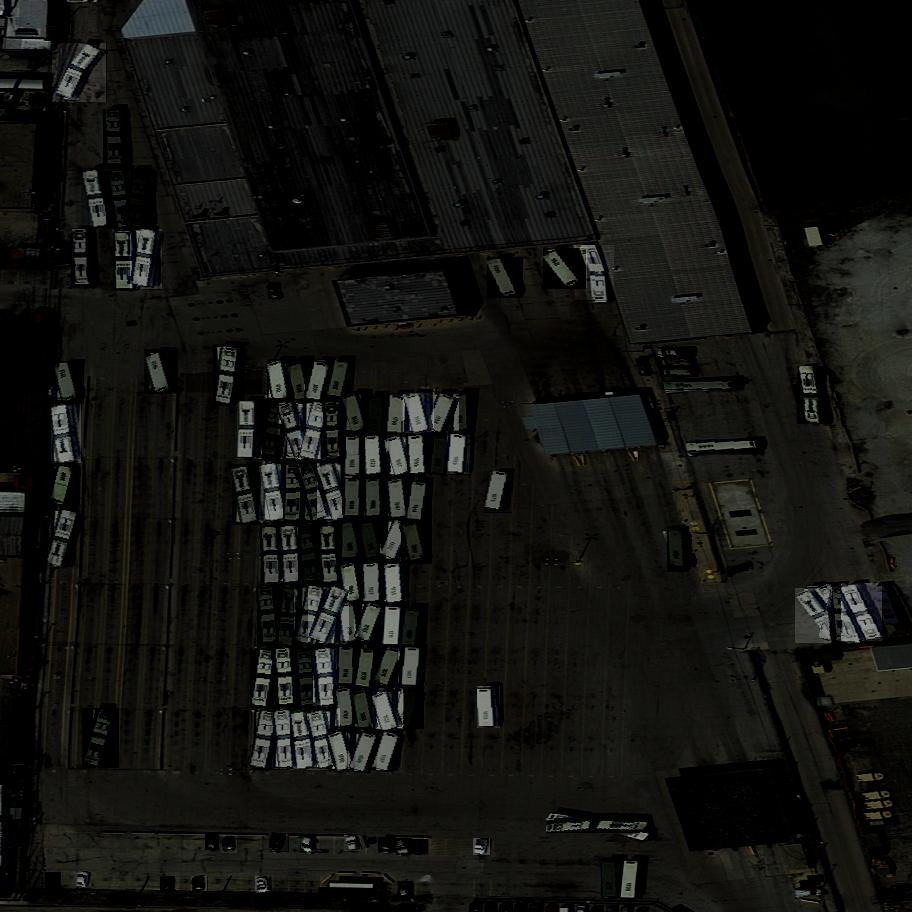large-vehicle: (53, 39, 108, 107), (796, 584, 853, 647), (841, 580, 884, 645), (308, 586, 350, 648), (44, 508, 85, 570), (575, 241, 614, 306), (82, 707, 120, 769), (295, 461, 332, 524), (260, 399, 295, 463), (279, 403, 316, 463), (317, 463, 353, 524), (81, 168, 117, 229), (544, 244, 588, 293), (294, 586, 328, 647), (308, 709, 341, 771), (251, 647, 283, 710), (130, 229, 163, 290), (299, 402, 331, 464), (214, 345, 245, 407), (250, 709, 281, 771), (798, 363, 828, 427), (51, 404, 82, 464), (232, 465, 262, 526), (260, 463, 290, 523), (488, 254, 525, 302), (106, 170, 135, 229), (128, 169, 156, 229), (143, 349, 179, 395), (291, 710, 318, 771), (299, 525, 326, 585), (313, 649, 340, 709), (547, 819, 653, 834), (374, 646, 409, 691), (272, 710, 298, 770), (380, 520, 414, 565), (372, 730, 406, 775), (104, 109, 130, 167), (48, 464, 82, 508), (425, 391, 459, 435), (371, 688, 405, 732), (257, 586, 282, 645), (278, 589, 303, 648), (71, 229, 96, 288), (275, 648, 300, 707), (832, 583, 855, 647), (355, 603, 388, 647), (348, 731, 381, 775), (283, 463, 307, 522), (320, 526, 344, 585), (296, 649, 320, 708), (383, 436, 415, 480), (400, 521, 432, 565), (403, 392, 434, 437), (483, 470, 514, 515), (280, 526, 304, 584), (238, 401, 262, 459), (395, 688, 427, 731), (357, 518, 388, 562), (305, 358, 334, 404), (328, 729, 358, 773), (55, 362, 85, 405), (343, 391, 373, 434), (325, 403, 347, 460), (338, 518, 367, 561), (262, 525, 283, 583), (114, 232, 135, 290), (325, 359, 353, 402), (398, 647, 426, 689), (352, 689, 380, 731), (338, 560, 365, 603), (286, 359, 313, 402), (336, 603, 363, 645), (355, 647, 382, 689), (406, 480, 432, 523), (401, 607, 428, 648), (386, 478, 412, 520), (687, 441, 764, 455), (333, 688, 359, 729), (448, 434, 473, 476), (477, 686, 502, 728), (266, 359, 290, 402), (383, 564, 408, 605), (667, 526, 689, 572), (428, 434, 452, 475), (452, 391, 475, 433), (365, 435, 388, 476), (381, 607, 405, 645), (407, 435, 429, 476), (365, 478, 387, 519), (621, 860, 644, 899), (363, 562, 385, 602), (366, 396, 388, 436), (601, 858, 622, 898), (388, 394, 408, 434), (345, 436, 366, 474), (343, 479, 363, 517), (337, 647, 357, 685), (663, 381, 743, 390)
small-vehicle: (726, 558, 759, 578), (269, 833, 290, 856), (658, 348, 696, 360), (839, 738, 869, 753), (474, 837, 492, 858), (796, 887, 825, 900), (301, 836, 319, 856), (221, 835, 239, 854), (345, 835, 363, 854), (664, 367, 698, 377), (660, 359, 696, 368), (378, 837, 397, 854), (411, 839, 429, 856), (74, 872, 91, 889), (45, 873, 61, 891), (256, 876, 271, 894), (396, 838, 411, 855), (205, 834, 220, 850), (398, 882, 413, 897), (160, 877, 174, 892), (192, 877, 207, 891), (269, 282, 281, 299), (26, 97, 33, 106)
